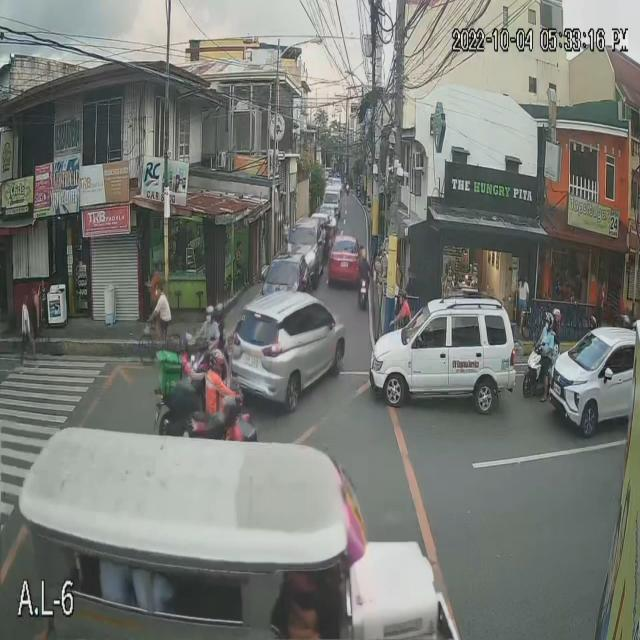Full-Faced: (223, 392, 238, 424), (208, 347, 223, 372), (551, 306, 564, 328)
Half-Faced: (175, 330, 195, 356), (540, 309, 554, 338), (213, 300, 225, 322), (204, 304, 216, 322)
